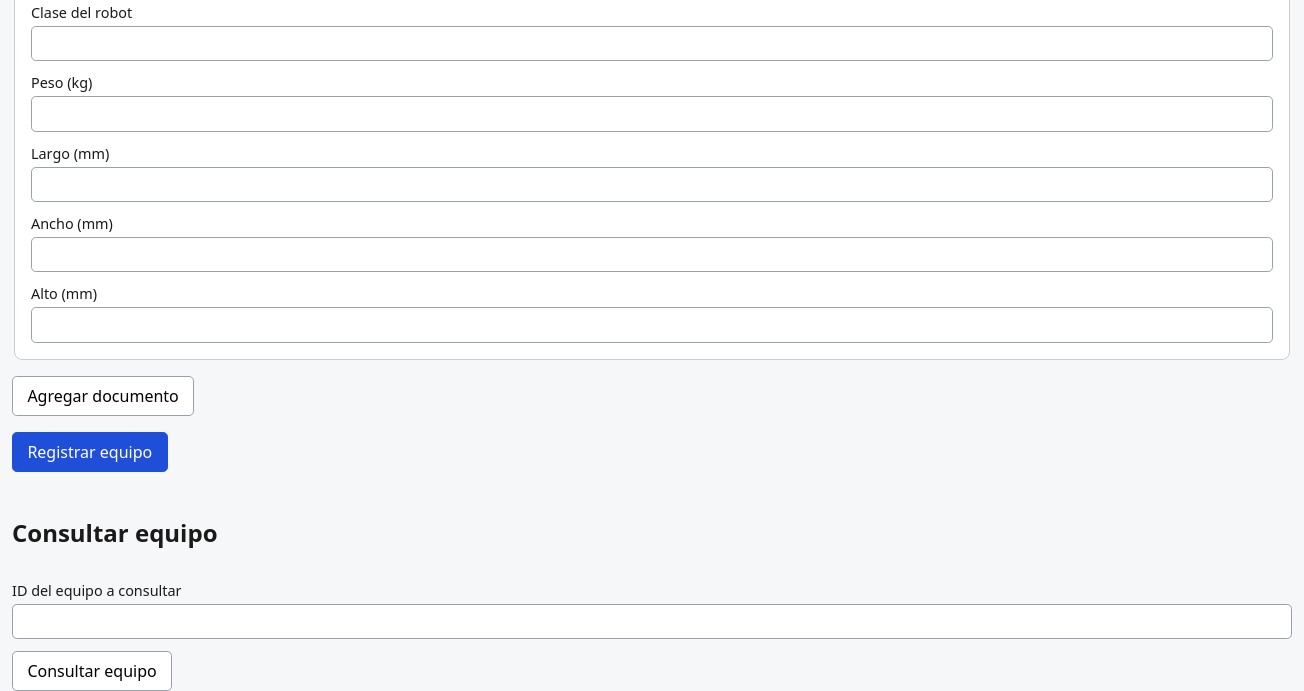
Test: RegisterTeamForm › consults a registration by id and shows its status, violations and data
(page scrolled)
Click the button "Consultar equipo".
click(92, 671)  # box [12,651,172,690]
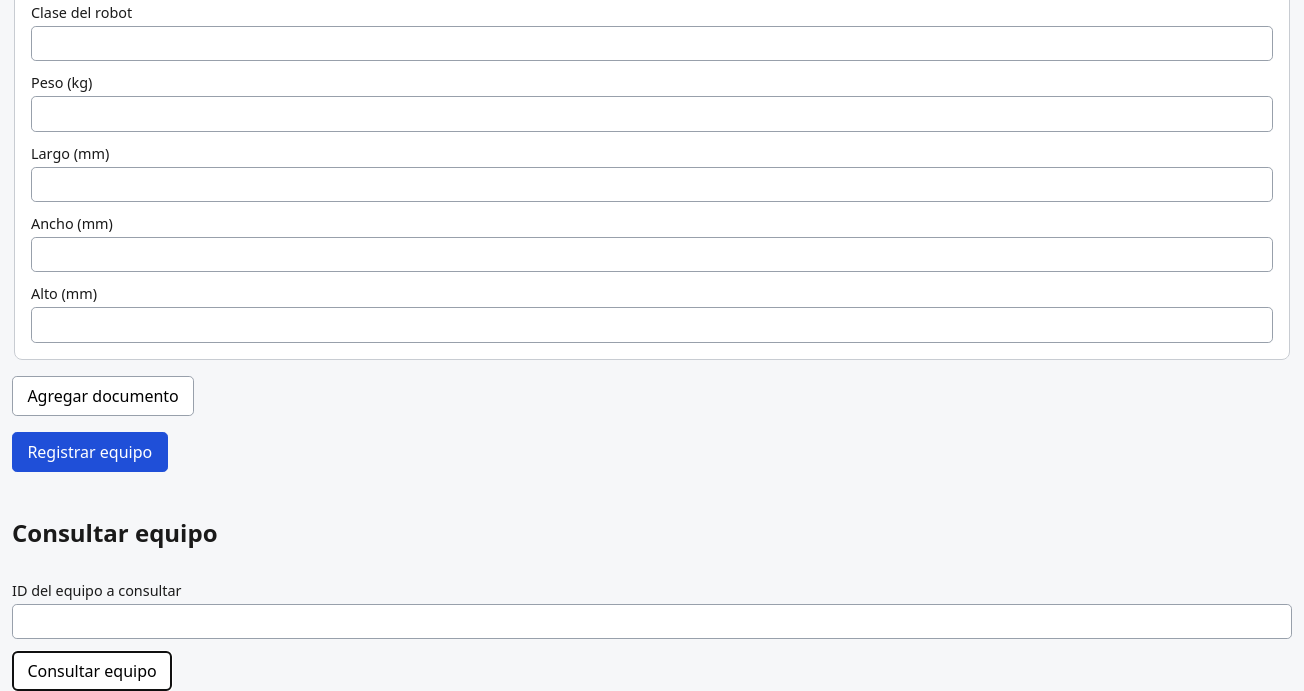
Type "TEAM-7" into the field labelled "ID del equipo a consultar".
click(652, 621); type("TEAM-7")  # box [12,604,1292,639]
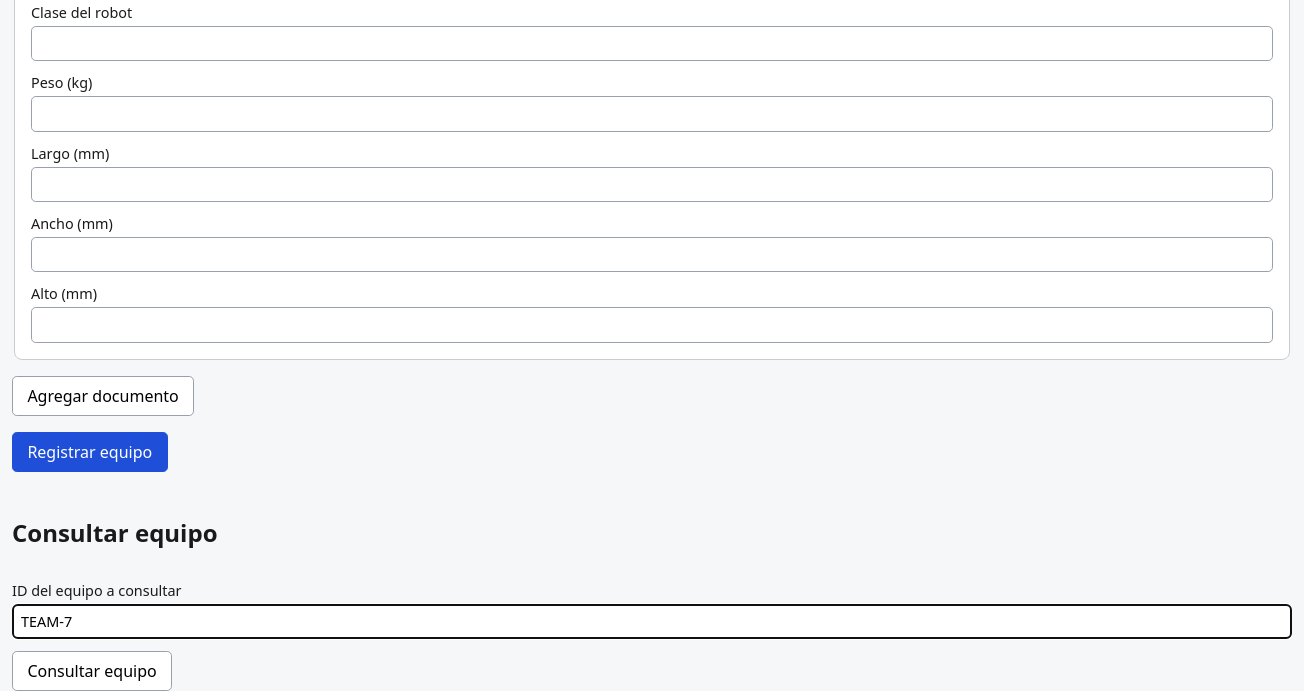
Click the button "Consultar equipo".
click(92, 671)  # box [12,651,172,690]
(page scrolled)
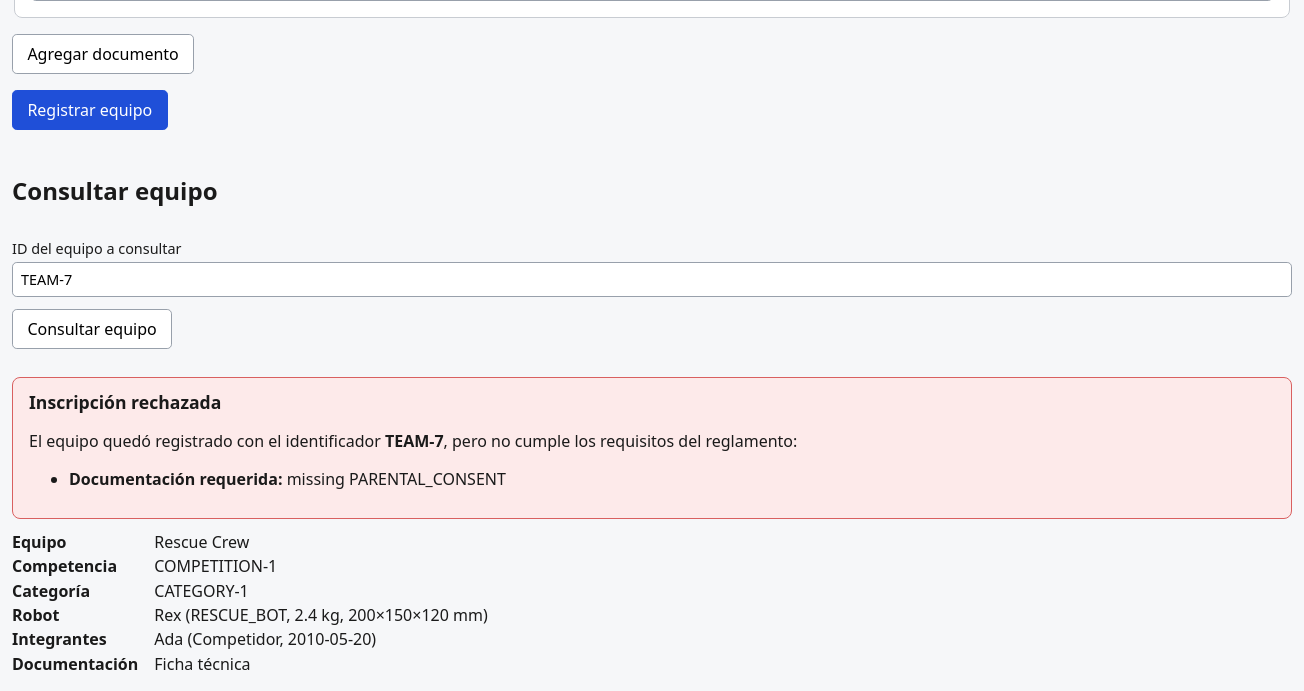
Expected: the heading "Inscripción rechazada" is shown, [29,390,221,414]
Expected: the list item "Documentación requerida: missing PARENTAL_CONSENT" is shown, [69,468,506,490]
Expected: the text "Rex (RESCUE_BOT, 2.4 kg, 200×150×120 mm)" is shown, [154,604,488,626]
